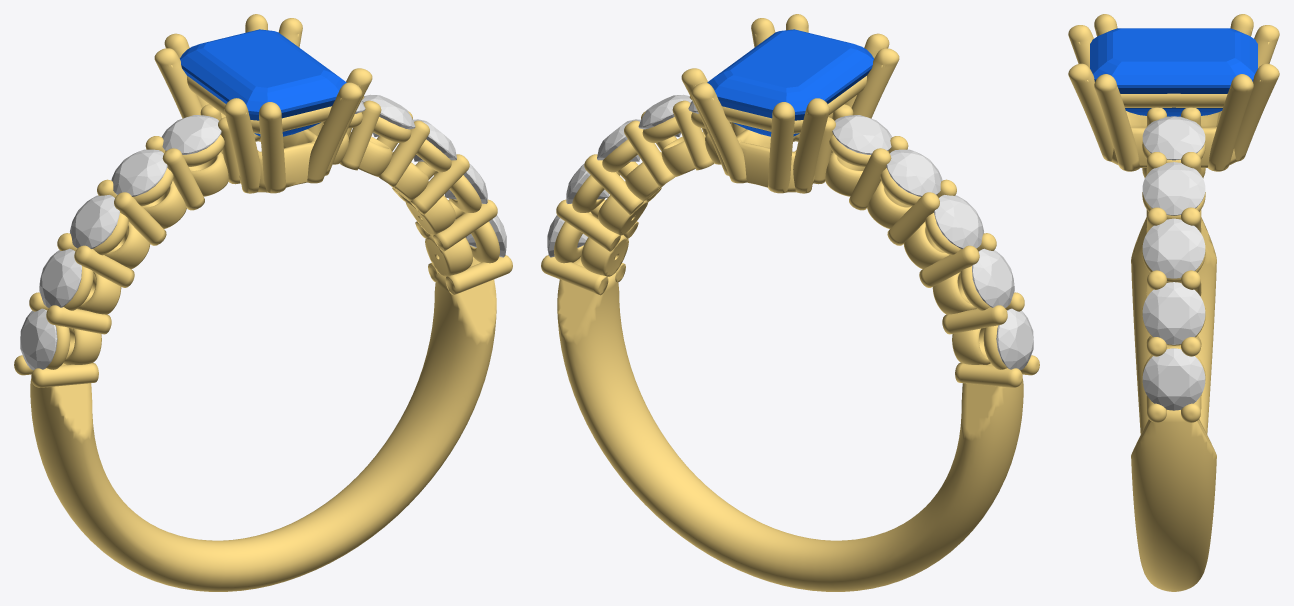
The model's file is bluesapphire-emerald-yellowgold-8prong-taperedband-11stone.glb.
3 renders of one model, left to right at view 1: azimuth 30°, elevation 25°; view 2: azimuth 150°, elevation 25°; view 3: azimuth 270°, elevation 25°, orthographic.
Visible parts, largest first — view 1: metal.003, stone, side.004, side.003, side.005, side, side.006, side.010; view 2: metal.003, stone, side.004, side.003, side.005, side, side.006, side.010; view 3: metal.003, stone, side.008, side.007, side.009, side.010, side.011.
Part boxes in pixels (<box>): metal.003: <box>14,14,512,591</box>; stone: <box>180,29,346,136</box>; side.004: <box>70,195,119,248</box>; side.003: <box>39,248,81,307</box>; side.005: <box>111,149,167,196</box>; side: <box>20,308,57,370</box>; side.006: <box>162,115,221,154</box>; side.010: <box>361,94,415,136</box>; metal.003: <box>541,14,1039,591</box>; stone: <box>707,29,873,136</box>; side.004: <box>934,195,983,248</box>; side.003: <box>972,248,1014,307</box>; side.005: <box>886,149,942,196</box>; side: <box>996,308,1033,370</box>; side.006: <box>832,115,891,154</box>; side.010: <box>638,94,692,136</box>; metal.003: <box>1068,14,1279,591</box>; stone: <box>1090,28,1257,116</box>; side.008: <box>1142,282,1205,344</box>; side.007: <box>1142,348,1205,410</box>; side.009: <box>1142,218,1205,278</box>; side.010: <box>1142,162,1205,215</box>; side.011: <box>1142,116,1205,160</box>.
Bounding box in the file's own units: 21.87 × 22.94 × 8.4.
